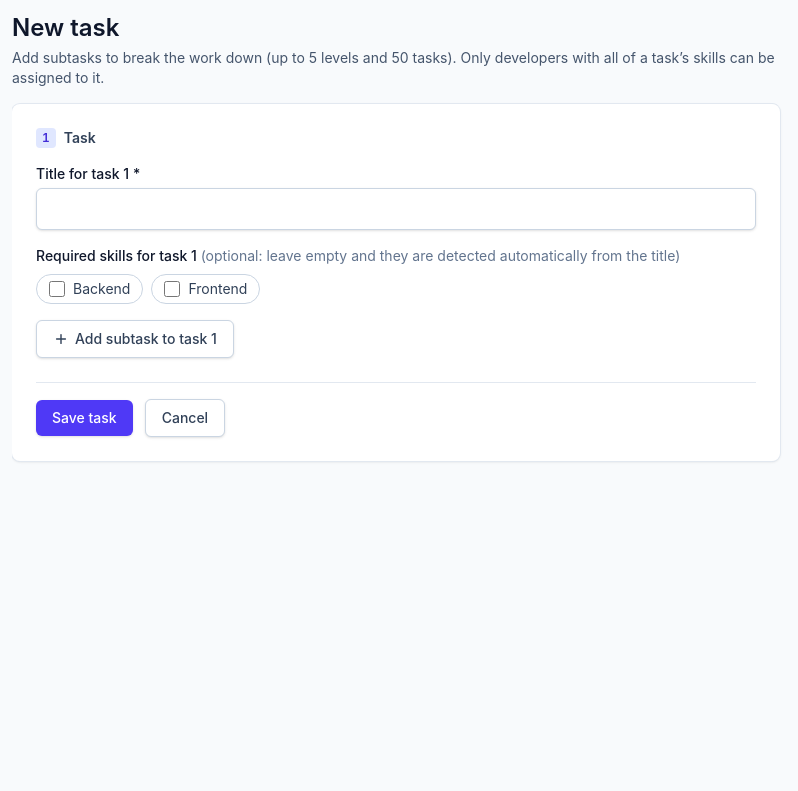
TaskCreatePage › shows a nested server field error next to that subtask
This screenshot has width=798, height=791.
Type "Root" into the field labelled "Title for task 1". click: coordinates (396, 209)
box: [36,188,756,230]
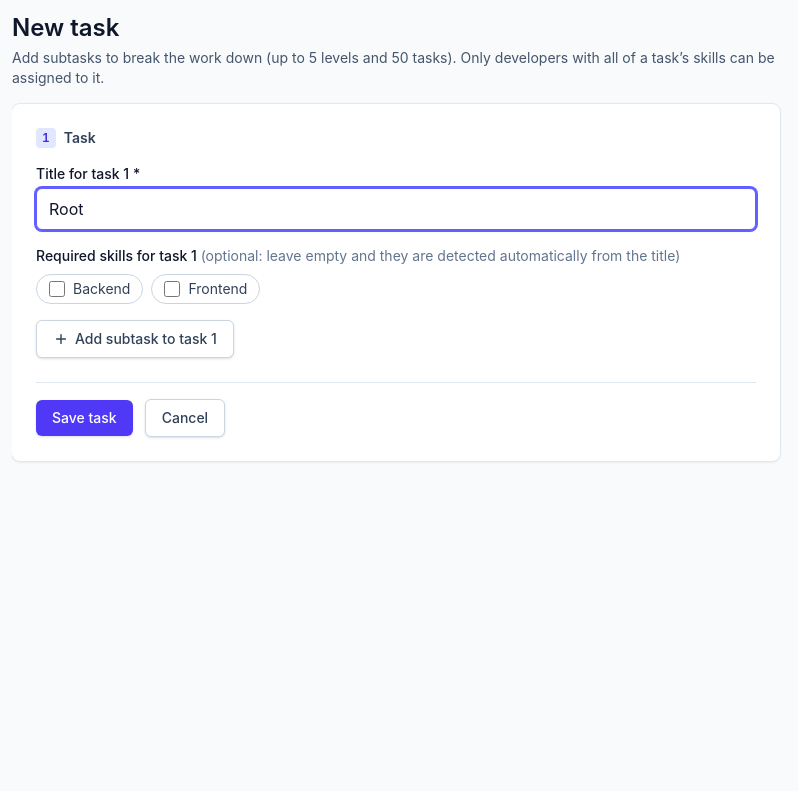
Click the button "Add subtask to task 1". click: coordinates (135, 339)
box: [36,320,234,358]
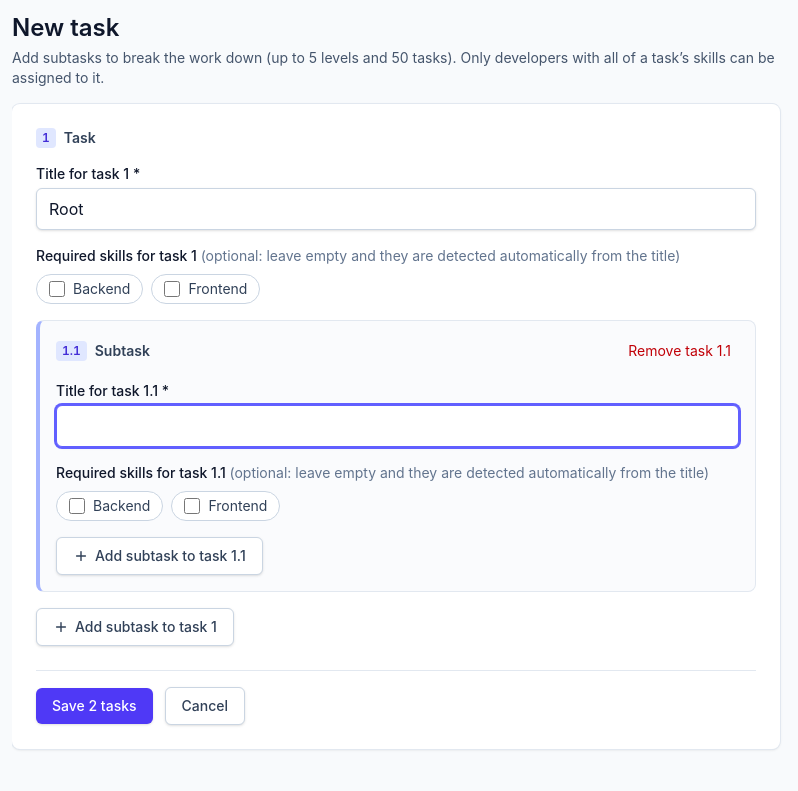
Type keys "Child"
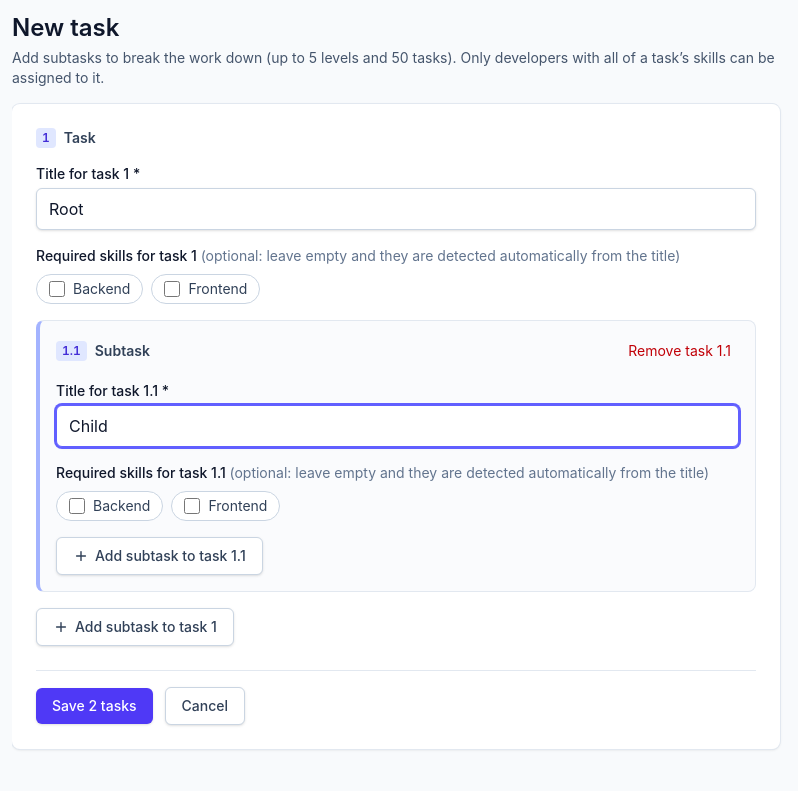
Click the button "Save 2 tasks". click: coordinates (94, 706)
box: [36,688,153,724]
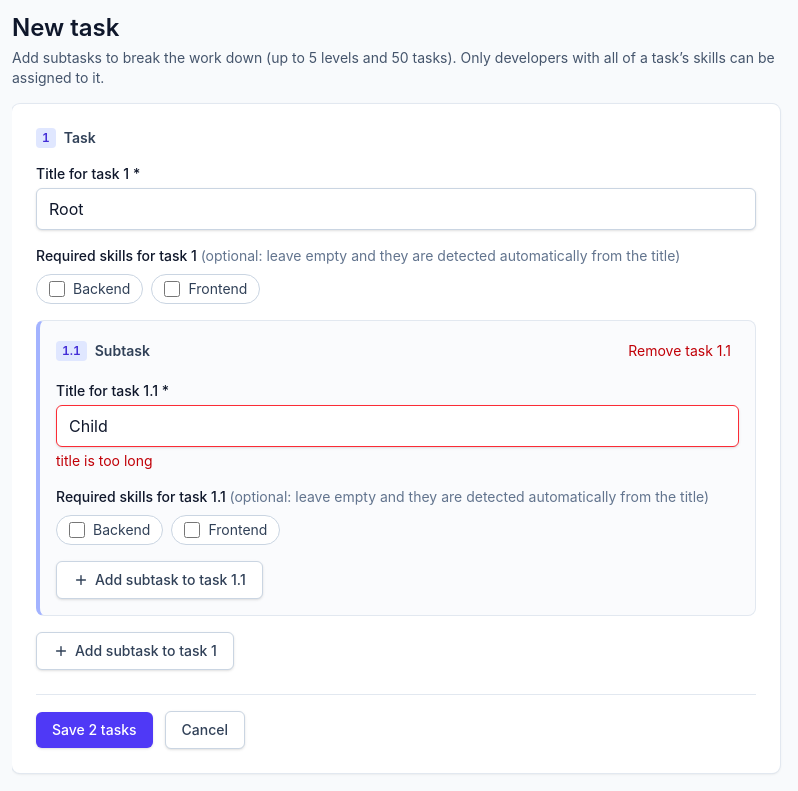
Now the text "title is too long" is shown, box [56,452,153,469]
